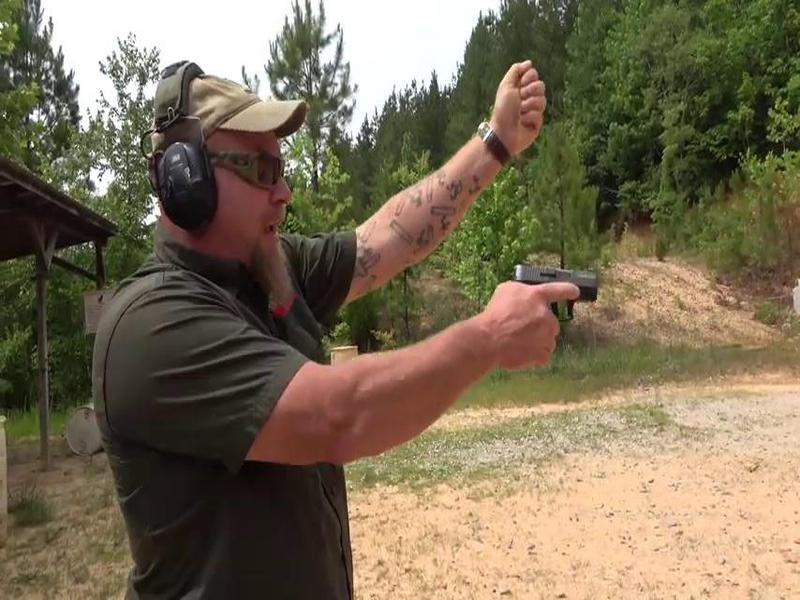Pistola: (497, 248, 629, 356)
